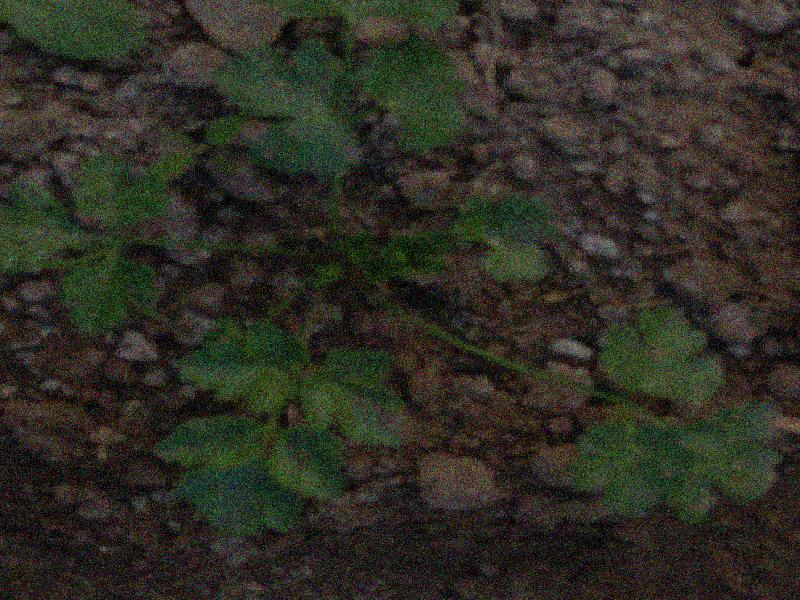radish: (0, 0, 764, 600)
